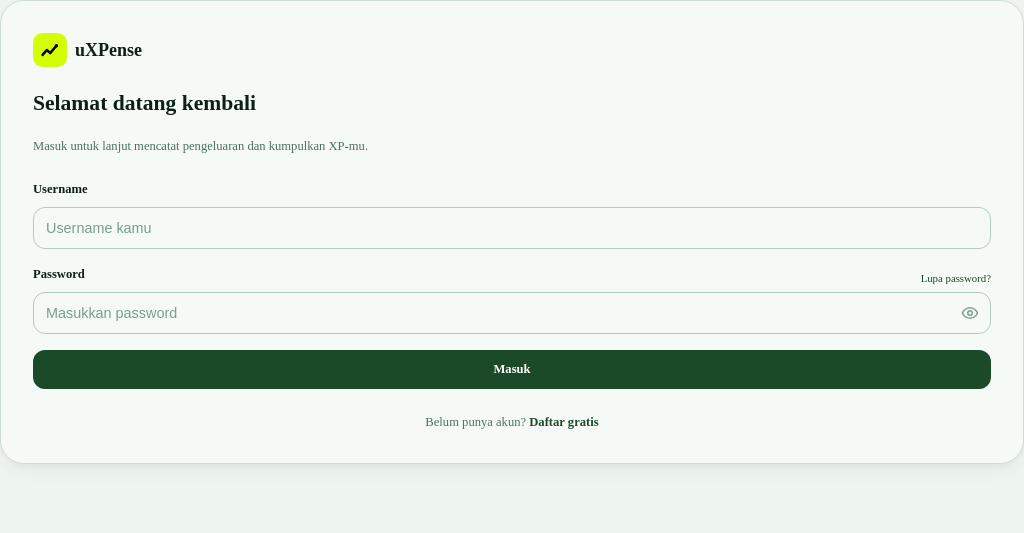
Scenario: LoginForm › displays an error message when login fails
The image size is (1024, 533).
In the field labelled "Username": (512, 228) [33,207,991,249], type "john"
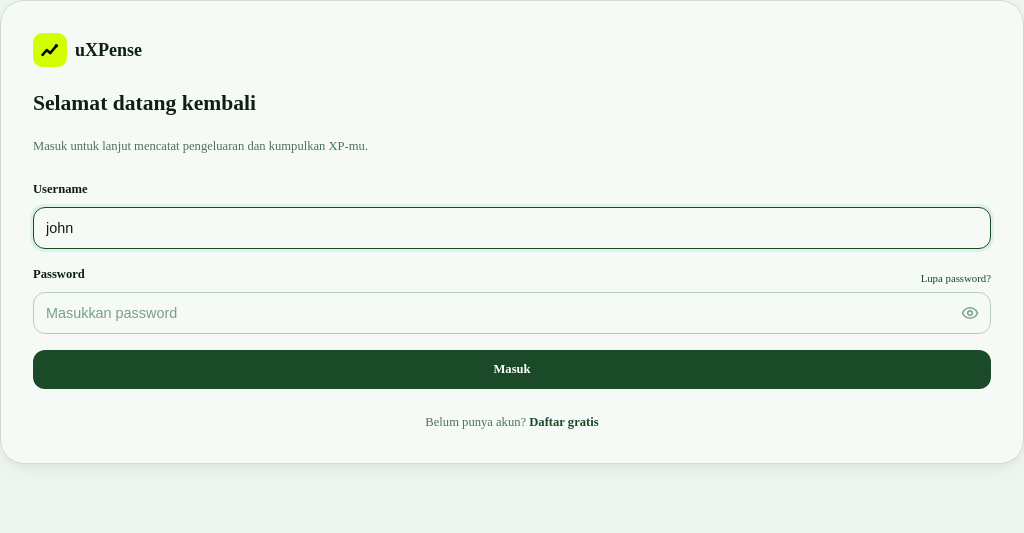
In the password field labelled "Password": (512, 313) [33,292,991,334], type "wrongpass"
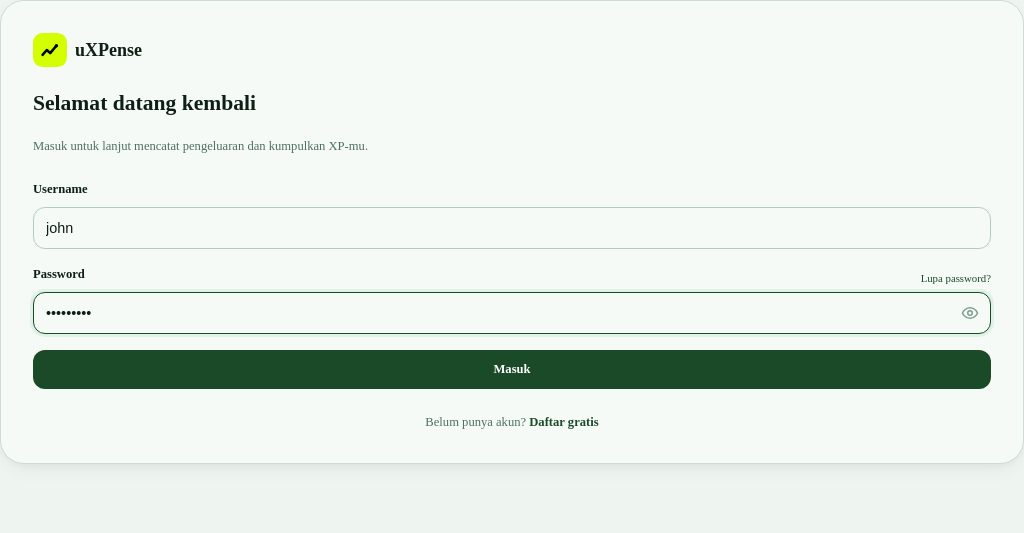
Click the button "Masuk": (512, 369) [33,350,991,389]
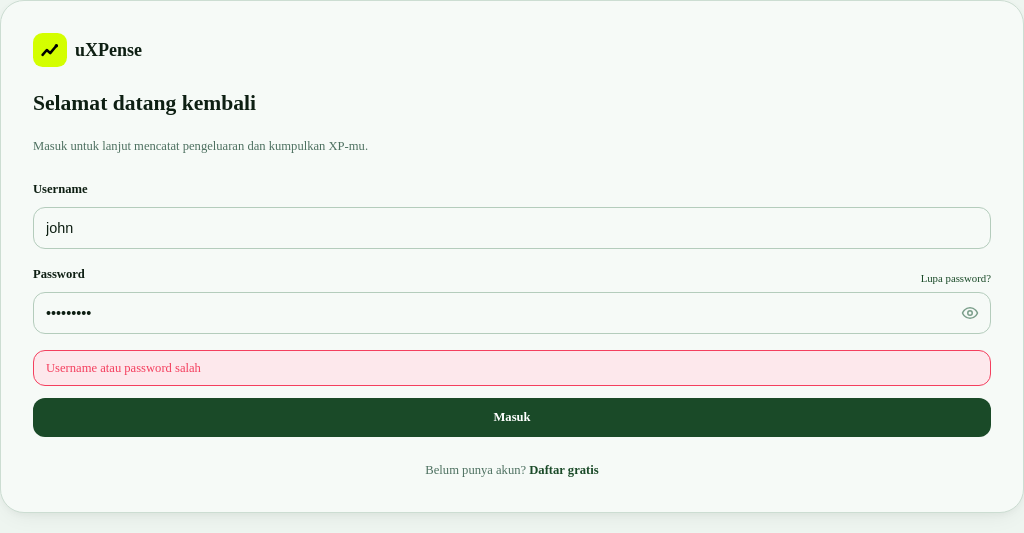
Expected: the message reads "Username atau password salah", [46,361,201,375]
